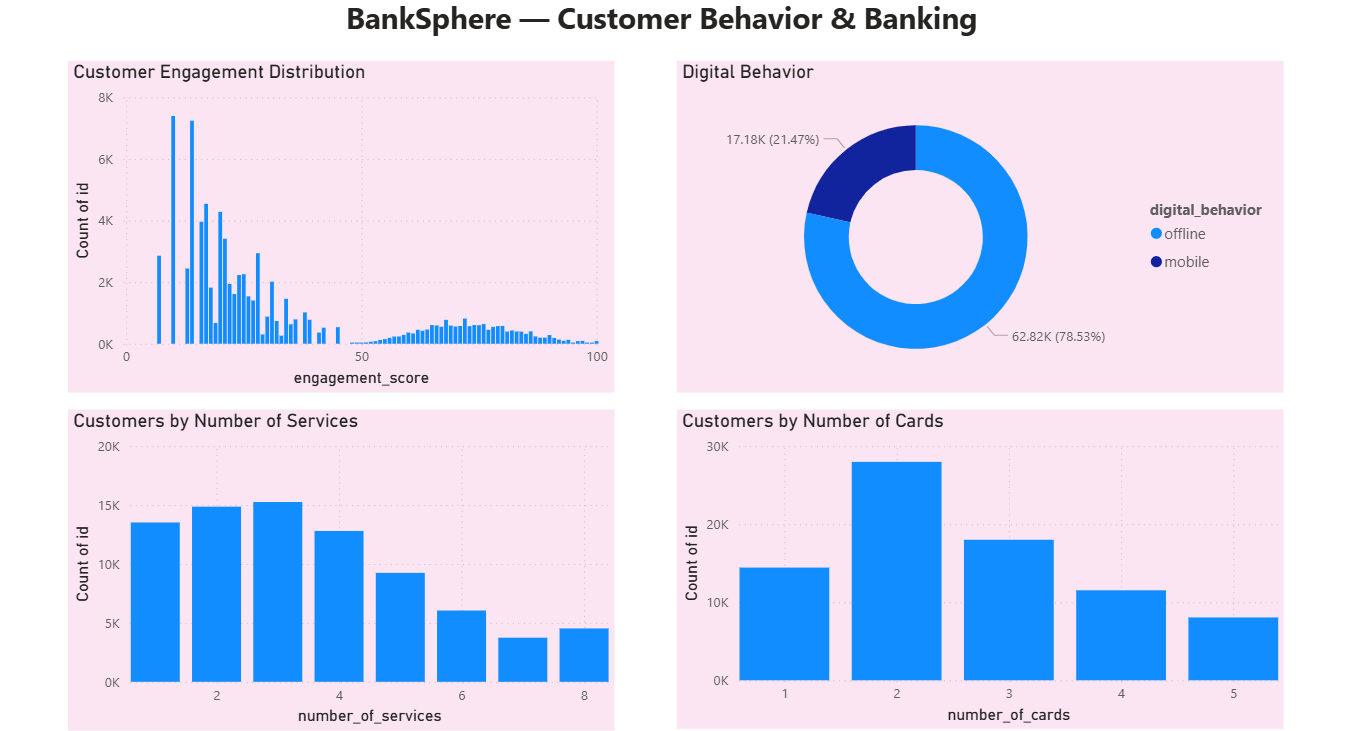

Layout of this report page (visuals, bound fields, positions):
{"tool":"powerbi","page":{"name":"Customer Behavior & Banking","canvas":[1280,720],"ordinal":2},"visuals":[{"type":"textbox","box":[275.8,45.3,698.5,48],"z":0},{"type":"clusteredColumnChart","title":"Customer Engagement Distribution","fields":{"Category":["BankCustomers.engagement_score"],"Y":["CountNonNull(BankCustomers.id)"]},"box":[90.6,107,492.6,299.1],"z":1000},{"type":"donutChart","title":"Digital Behavior","fields":{"Category":["BankCustomers.digital_behavior"],"Y":["CountNonNull(BankCustomers.id)"]},"box":[639.5,107,547.5,299.1],"z":2000},{"type":"clusteredColumnChart","title":"Customers by Number of Services","fields":{"Category":["BankCustomers.number_of_services"],"Y":["CountNonNull(BankCustomers.id)"]},"box":[90.6,421.3,492.6,289.5],"z":3000},{"type":"clusteredColumnChart","title":"Customers by Number of Cards","fields":{"Category":["BankCustomers.number_of_cards"],"Y":["CountNonNull(BankCustomers.id)"]},"box":[639.5,421.3,547.5,288.2],"z":4000}]}

Visuals, with their boxes on the page's 1280x720 design canvas (x1, y1, x2, y2). These are canvas units, not pixel positions in the 1350x731 screenshot, which may show the page scaled, cropped or inside an application window:
textbox: left=276, top=45, right=974, bottom=93
"Customer Engagement Distribution" clusteredColumnChart: left=91, top=107, right=583, bottom=406
"Digital Behavior" donutChart: left=640, top=107, right=1187, bottom=406
"Customers by Number of Services" clusteredColumnChart: left=91, top=421, right=583, bottom=711
"Customers by Number of Cards" clusteredColumnChart: left=640, top=421, right=1187, bottom=710
